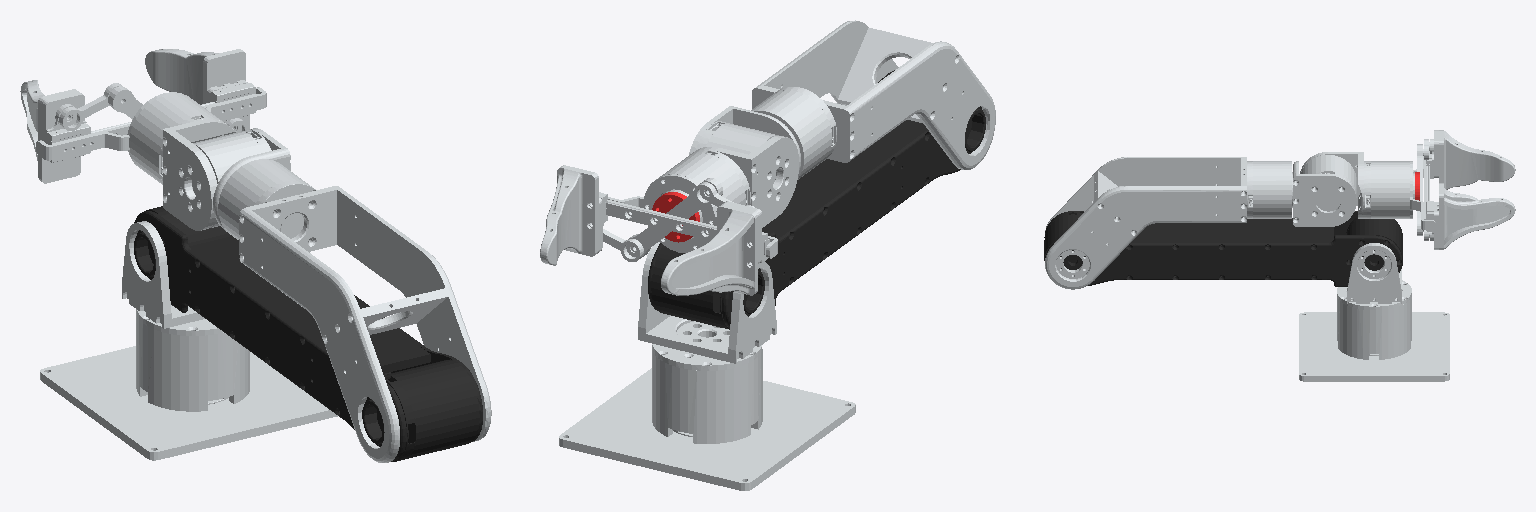
URDF robot description (arm_dm_description):
<?xml version="1.0" encoding="utf-8"?>
<!-- This URDF was automatically created by SolidWorks to URDF Exporter! Originally created by [author] ([email redacted]) 
     Commit Version: 1.6.0-4-g7f85cfe  Build Version: 1.6.7995.38578
     For more information, please see http://wiki.ros.org/sw_urdf_exporter -->
<robot
  name="arm_dm_description">
  <link
    name="base_link">
    <inertial>
      <origin
        xyz="-1.4614E-05 2.7564E-09 0.019963"
        rpy="0 0 0" />
      <mass
        value="0.70252" />
      <inertia
        ixx="0.00089488"
        ixy="1.1047E-08"
        ixz="1.14E-08"
        iyy="0.00089762"
        iyz="-1.9084E-12"
        izz="0.0016544" />
    </inertial>
    <visual>
      <origin
        xyz="0 0 0"
        rpy="0 0 0" />
      <geometry>
        <mesh
          filename="package://arm_dm_description/meshes/base_link.STL" />
      </geometry>
      <material
        name="">
        <color
          rgba="0.89804 0.91765 0.92941 1" />
      </material>
    </visual>
    <collision>
      <origin
        xyz="0 0 0"
        rpy="0 0 0" />
      <geometry>
        <mesh
          filename="package://arm_dm_description/meshes/base_link.STL" />
      </geometry>
    </collision>
  </link>
  <link
    name="link1">
    <inertial>
      <origin
        xyz="0.0027728 2.1768E-14 0.017932"
        rpy="0 0 0" />
      <mass
        value="0.12465" />
      <inertia
        ixx="4.9774E-05"
        ixy="3.7599E-19"
        ixz="4.964E-07"
        iyy="3.9409E-05"
        iyz="-1.4791E-17"
        izz="4.9343E-05" />
    </inertial>
    <visual>
      <origin
        xyz="0 0 0"
        rpy="0 0 0" />
      <geometry>
        <mesh
          filename="package://arm_dm_description/meshes/link1.STL" />
      </geometry>
      <material
        name="">
        <color
          rgba="0.89804 0.91765 0.92941 1" />
      </material>
    </visual>
    <collision>
      <origin
        xyz="0 0 0"
        rpy="0 0 0" />
      <geometry>
        <mesh
          filename="package://arm_dm_description/meshes/link1.STL" />
      </geometry>
    </collision>
  </link>
  <joint
    name="joint1"
    type="revolute">
    <origin
      xyz="0 0 0.06475"
      rpy="0 0 0" />
    <parent
      link="base_link" />
    <child
      link="link1" />
    <axis
      xyz="0 0 1" />
    <limit
      lower="-1.57"
      upper="1.57"
      effort="26"
      velocity="30" />
  </joint>
  <link
    name="link2">
    <inertial>
      <origin
        xyz="-0.0035914 -0.14996 9.5822E-09"
        rpy="0 0 0" />
      <mass
        value="0.83418" />
      <inertia
        ixx="0.0043271"
        ixy="-6.9375E-08"
        ixz="-2.086E-10"
        iyy="0.00024179"
        iyz="-2.1753E-08"
        izz="0.0043582" />
    </inertial>
    <visual>
      <origin
        xyz="0 0 0"
        rpy="0 0 0" />
      <geometry>
        <mesh
          filename="package://arm_dm_description/meshes/link2.STL" />
      </geometry>
      <material
        name="">
        <color
          rgba="0.22353 0.22353 0.22353 1" />
      </material>
    </visual>
    <collision>
      <origin
        xyz="0 0 0"
        rpy="0 0 0" />
      <geometry>
        <mesh
          filename="package://arm_dm_description/meshes/link2.STL" />
      </geometry>
    </collision>
  </link>
  <joint
    name="joint2"
    type="revolute">
    <origin
      xyz="0.00325 0 0.04575"
      rpy="0 0 0" />
    <parent
      link="link1" />
    <child
      link="link2" />
    <axis
      xyz="1 0 0" />
    <limit
      lower="-3.14"
      upper="0"
      effort="26"
      velocity="30" />
  </joint>
  <link
    name="link3">
    <inertial>
      <origin
        xyz="-0.00257 0.09923 0.051397"
        rpy="0 0 0" />
      <mass
        value="0.49894" />
      <inertia
        ixx="0.0011822"
        ixy="-2.0778E-06"
        ixz="-1.411E-06"
        iyy="0.0003301"
        iyz="-0.00031014"
        izz="0.00096288" />
    </inertial>
    <visual>
      <origin
        xyz="0 0 0"
        rpy="0 0 0" />
      <geometry>
        <mesh
          filename="package://arm_dm_description/meshes/link3.STL" />
      </geometry>
      <material
        name="">
        <color
          rgba="0.89804 0.91765 0.92941 1" />
      </material>
    </visual>
    <collision>
      <origin
        xyz="0 0 0"
        rpy="0 0 0" />
      <geometry>
        <mesh
          filename="package://arm_dm_description/meshes/link3.STL" />
      </geometry>
    </collision>
  </link>
  <joint
    name="joint3"
    type="revolute">
    <origin
      xyz="0 -0.3 0"
      rpy="0 0 0" />
    <parent
      link="link2" />
    <child
      link="link3" />
    <axis
      xyz="1 0 0" />
    <limit
      lower="0"
      upper="2"
      effort="26"
      velocity="30" />
  </joint>
  <link
    name="link4">
    <inertial>
      <origin
        xyz="0.0034984 0.028153 -1.0623E-06"
        rpy="0 0 0" />
      <mass
        value="0.17215" />
      <inertia
        ixx="6.9729E-05"
        ixy="3.8219E-09"
        ixz="-1.909E-12"
        iyy="5.8234E-05"
        iyz="-2.1963E-08"
        izz="5.0848E-05" />
    </inertial>
    <visual>
      <origin
        xyz="0 0 0"
        rpy="0 0 0" />
      <geometry>
        <mesh
          filename="package://arm_dm_description/meshes/link4.STL" />
      </geometry>
      <material
        name="">
        <color
          rgba="0.89804 0.91765 0.92941 1" />
      </material>
    </visual>
    <collision>
      <origin
        xyz="0 0 0"
        rpy="0 0 0" />
      <geometry>
        <mesh
          filename="package://arm_dm_description/meshes/link4.STL" />
      </geometry>
    </collision>
  </link>
  <joint
    name="joint4"
    type="revolute">
    <origin
      xyz="-0.00325 0.218 0.065"
      rpy="0 0 0" />
    <parent
      link="link3" />
    <child
      link="link4" />
    <axis
      xyz="0 -1 0" />
    <limit
      lower="-3"
      upper="3"
      effort="26"
      velocity="30" />
  </joint>
  <link
    name="link5">
    <inertial>
      <origin
        xyz="-0.00068876 0.076386 -1.3572E-05"
        rpy="0 0 0" />
      <mass
        value="0.38198" />
      <inertia
        ixx="0.00011865"
        ixy="-9.3104E-08"
        ixz="2.9613E-06"
        iyy="0.00021653"
        iyz="1.1425E-08"
        izz="0.00020595" />
    </inertial>
    <visual>
      <origin
        xyz="0 0 0"
        rpy="0 0 0" />
      <geometry>
        <mesh
          filename="package://arm_dm_description/meshes/link5.STL" />
      </geometry>
      <material
        name="">
        <color
          rgba="0.89804 0.91765 0.92941 1" />
      </material>
    </visual>
    <collision>
      <origin
        xyz="0 0 0"
        rpy="0 0 0" />
      <geometry>
        <mesh
          filename="package://arm_dm_description/meshes/link5.STL" />
      </geometry>
    </collision>
  </link>
  <joint
    name="joint5"
    type="revolute">
    <origin
      xyz="-0.00275 0.036 0"
      rpy="0 0 0" />
    <parent
      link="link4" />
    <child
      link="link5" />
    <axis
      xyz="1 0 0" />
    <limit
      lower="-1.28"
      upper="1.28"
      effort="26"
      velocity="30" />
  </joint>
  <link
    name="link6">
    <inertial>
      <origin
        xyz="1.8842E-15 0.0065 -1.5543E-15"
        rpy="0 0 0" />
      <mass
        value="0.0045985" />
      <inertia
        ixx="3.5845E-07"
        ixy="-4.139E-22"
        ixz="1.9791E-23"
        iyy="6.9773E-07"
        iyz="-1.448E-21"
        izz="3.5845E-07" />
    </inertial>
    <visual>
      <origin
        xyz="0 0 0"
        rpy="0 0 0" />
      <geometry>
        <mesh
          filename="package://arm_dm_description/meshes/link6.STL" />
      </geometry>
      <material
        name="">
        <color
          rgba="1 0.24706 0.24706 1" />
      </material>
    </visual>
    <collision>
      <origin
        xyz="0 0 0"
        rpy="0 0 0" />
      <geometry>
        <mesh
          filename="package://arm_dm_description/meshes/link6.STL" />
      </geometry>
    </collision>
  </link>
  <joint
    name="joint6"
    type="revolute">
    <origin
      xyz="0.00275 0.082 0"
      rpy="0 0 0" />
    <parent
      link="link5" />
    <child
      link="link6" />
    <axis
      xyz="0 -1 0" />
    <limit
      lower="0"
      upper="1.1"
      effort="26"
      velocity="30" />
  </joint>
</robot>

--- What the picture shows (computed from the rendered views, not written in the file) ---
The picture shows the robot from 3 angles, left to right: view 1: azimuth 30°, elevation 25°; view 2: azimuth 150°, elevation 25°; view 3: azimuth 270°, elevation 25°; orthographic projection.
Model arm_dm_description with 7 links and 6 joints (6 revolute), rooted at base_link, posed every joint at zero.
Visible links, largest first — view 1: link3, link2, base_link, link5, link1, link4; view 2: base_link, link5, link3, link2, link1, link4, link6; view 3: link3, link2, base_link, link5, link4, link1.
Link boxes in pixels (x1,y1,x2,y2): link3: (218, 159, 491, 462); link2: (134, 206, 482, 461); base_link: (40, 309, 337, 460); link5: (20, 49, 266, 230); link1: (122, 221, 204, 328); link4: (192, 128, 290, 231); base_link: (559, 344, 855, 490); link5: (540, 136, 798, 295); link3: (751, 20, 995, 179); link2: (648, 70, 985, 329); link1: (638, 242, 776, 363); link4: (689, 106, 800, 183); link6: (652, 192, 699, 242); link3: (1045, 157, 1292, 289); link2: (1044, 211, 1402, 286); base_link: (1299, 280, 1449, 381); link5: (1300, 130, 1515, 249); link4: (1293, 155, 1356, 226); link1: (1347, 243, 1401, 303).
Bounding box of the posed robot: 0.1681 × 0.469 × 0.2113 m (x, y, z).
Meshes: 7 distinct files referenced, 7 mesh visuals loaded (7 binary STL).